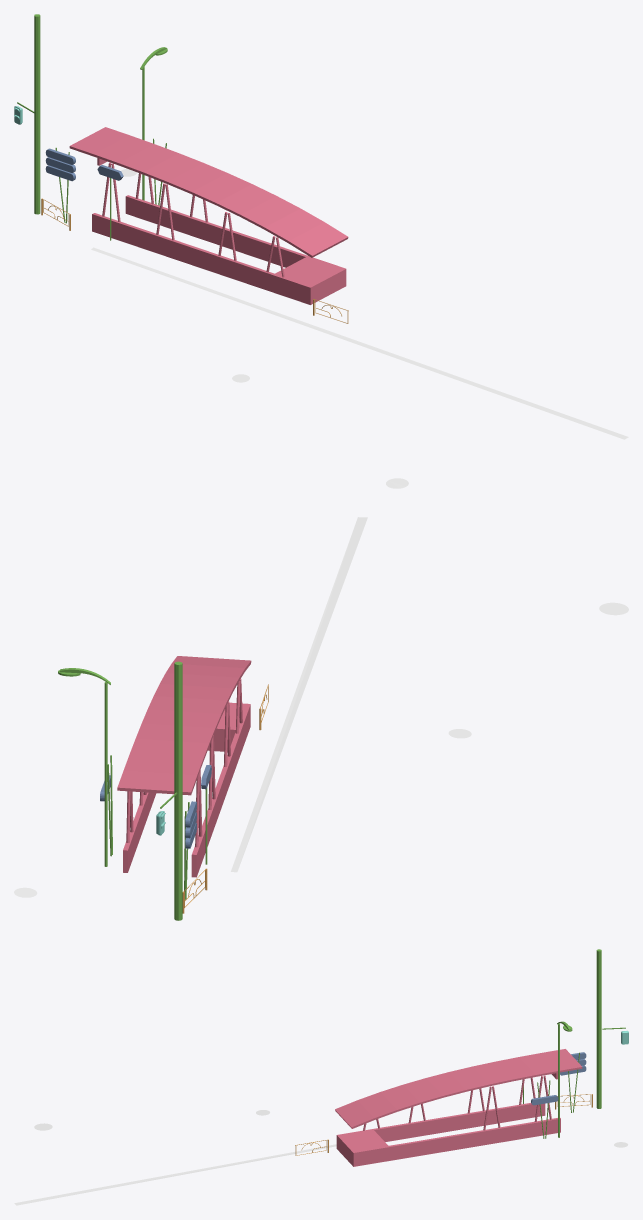
File: data168.glb
3 views of the same model, one above another, from view 1: azimuth 30°, elevation 25°; view 2: azimuth 150°, elevation 25°; view 3: azimuth 270°, elevation 25° (orthographic). The views are drawn at different scales.
Size of the model in its own units: 10.87 by 9.31 by 30.08.
